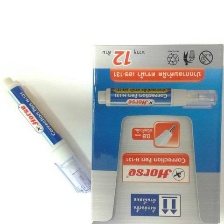book: (87, 40, 224, 223)
correction_fluid: (0, 73, 96, 194)
